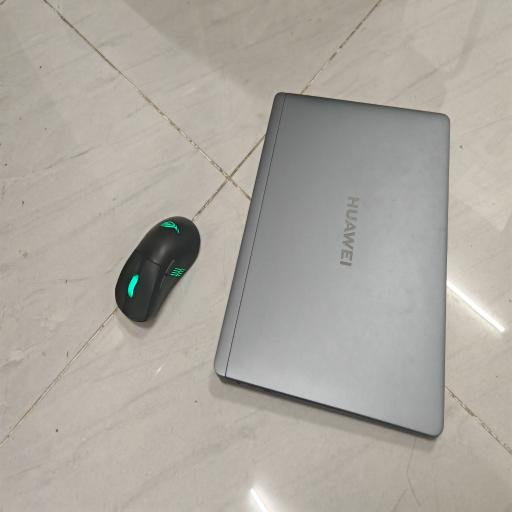laptop: (214, 93, 450, 436)
mouse: (115, 216, 200, 322)
